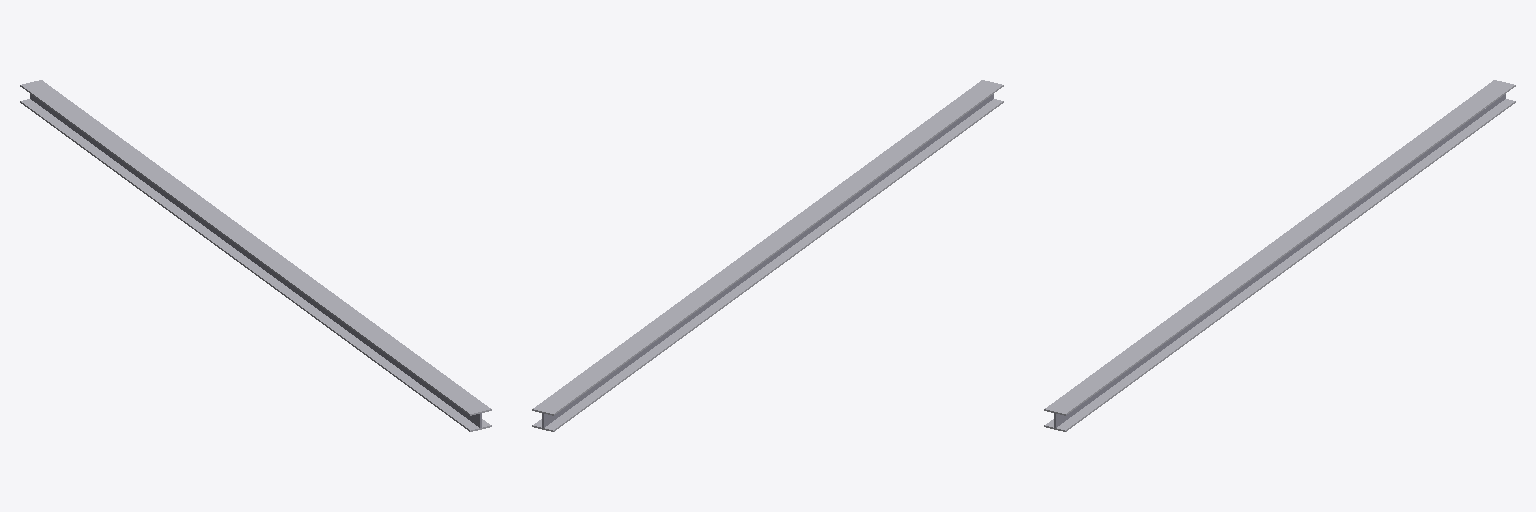
URDF robot description (h_bar):
<?xml version="1.0" ?>
<!-- =================================================================================== -->
<!-- |    This document was autogenerated by xacro from h_bar.xacro                    | -->
<!-- |    EDITING THIS FILE BY HAND IS NOT RECOMMENDED                                 | -->
<!-- =================================================================================== -->
<robot name="h_bar">
  <link name="world"/>
  <!-- Bottom leg (aligned with z-axis after rotation, below origin) -->
  <link name="hbar_bottom_leg">
    <visual>
      <origin rpy="0 1.57079633 0" xyz="0 0 0"/>
      <geometry>
        <!-- thickness x, profile width y, leg length along local z -->
        <box size="0.01 5.0 0.135"/>
      </geometry>
      <material name="hbar_material_bottom">
        <!-- Brushed steel-like gray -->
        <color rgba="0.75 0.75 0.78 1.0"/>
      </material>
    </visual>
    <collision>
      <origin rpy="0 1.57079633 0" xyz="0 0 0"/>
      <geometry>
        <box size="0.01 5.0 0.135"/>
      </geometry>
    </collision>
    <inertial>
      <origin rpy="0 0 0" xyz="0 0 0"/>
      <mass value="0.3333333333333333"/>
      <inertia ixx="0.6949506944444445" ixy="0.0" ixz="0.0" iyy="0.0005090277777777777" iyz="0.0" izz="0.6944472222222222"/>
    </inertial>
  </link>
  <!-- Top leg (aligned with z-axis after rotation, above origin) -->
  <link name="hbar_top_leg">
    <visual>
      <origin rpy="0 1.57079633 0" xyz="0 0 0"/>
      <geometry>
        <box size="0.01 5.0 0.135"/>
      </geometry>
      <material name="hbar_material_top">
        <!-- Brushed steel-like gray -->
        <color rgba="0.75 0.75 0.78 1.0"/>
      </material>
    </visual>
    <collision>
      <origin rpy="0 1.57079633 0" xyz="0 0 0"/>
      <geometry>
        <box size="0.01 5.0 0.135"/>
      </geometry>
    </collision>
    <inertial>
      <origin rpy="0 0 0" xyz="0 0 0"/>
      <mass value="0.3333333333333333"/>
      <inertia ixx="0.6949506944444445" ixy="0.0" ixz="0.0" iyy="0.0005090277777777777" iyz="0.0" izz="0.6944472222222222"/>
    </inertial>
  </link>
  <!-- Crossbar: vertical (aligned with z-axis) at the origin -->
  <link name="hbar_crossbar">
    <visual>
      <!-- Thickness in x,y, length in z -->
      <origin rpy="0 0 0" xyz="0 0 0"/>
      <geometry>
        <box size="0.01 5.0 0.1"/>
      </geometry>
      <material name="hbar_material_cross">
        <!-- Slightly darker steel for visual contrast -->
        <color rgba="0.65 0.65 0.7 1.0"/>
      </material>
    </visual>
    <collision>
      <origin rpy="0 0 0" xyz="0 0 0"/>
      <geometry>
        <box size="0.01 5.0 0.1"/>
      </geometry>
    </collision>
    <inertial>
      <origin rpy="0 0 0" xyz="0 0 0"/>
      <mass value="0.3333333333333333"/>
      <inertia ixx="0.6947222222222222" ixy="0.0" ixz="0.0" iyy="0.0002805555555555556" iyz="0.0" izz="0.6944472222222222"/>
    </inertial>
  </link>
  <!-- Fix crossbar to world; its center is at the macro pose -->
  <joint name="hbar_cross_fix" type="fixed">
    <parent link="world"/>
    <child link="hbar_crossbar"/>
    <origin rpy="0 0 0" xyz="0 0 0"/>
  </joint>
  <!-- Top leg: translated +L_leg/2 in x and +L_span/2 in z relative to crossbar -->
  <joint name="hbar_top_fix" type="fixed">
    <parent link="hbar_crossbar"/>
    <child link="hbar_top_leg"/>
    <origin rpy="0 0.0 0" xyz="0 0 0.05"/>
  </joint>
  <!-- Bottom leg: translated +L_leg/2 in x and -L_span/2 in z relative to crossbar -->
  <joint name="hbar_bottom_fix" type="fixed">
    <parent link="hbar_crossbar"/>
    <child link="hbar_bottom_leg"/>
    <origin rpy="0 0 0" xyz="0 0 -0.05"/>
  </joint>
</robot>

--- What the picture shows (computed from the rendered views, not written in the file) ---
Views: 3 orthographic renders of the robot side by side, from view 1: azimuth 30°, elevation 25°; view 2: azimuth 150°, elevation 25°; view 3: azimuth 330°, elevation 25°.
Robot: h_bar — 4 links, 3 joints (3 fixed); root link world; default pose: all joints at 0.
Links seen in each view (by area): view 1: hbar_top_leg, hbar_bottom_leg, hbar_crossbar; view 2: hbar_top_leg, hbar_bottom_leg, hbar_crossbar; view 3: hbar_top_leg, hbar_bottom_leg, hbar_crossbar.
Link boxes in pixels (x1,y1,x2,y2): hbar_top_leg: [20, 80, 491, 415]; hbar_bottom_leg: [20, 99, 491, 431]; hbar_crossbar: [30, 94, 481, 427]; hbar_top_leg: [532, 80, 1003, 415]; hbar_bottom_leg: [532, 99, 1003, 431]; hbar_crossbar: [542, 94, 993, 428]; hbar_top_leg: [1044, 80, 1515, 415]; hbar_bottom_leg: [1044, 99, 1515, 431]; hbar_crossbar: [1054, 94, 1505, 428].
Bounding box of the posed robot: 0.135 × 5 × 0.11 m (x, y, z).
Geometry: primitives only (box / cylinder / sphere), no mesh files.
